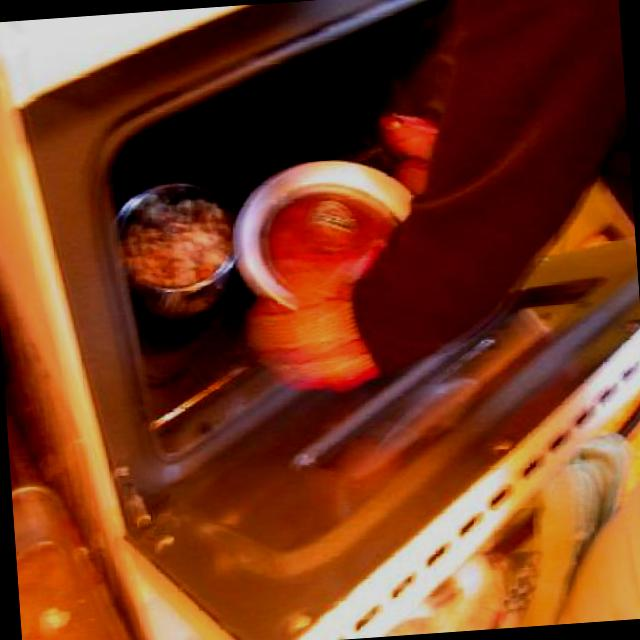Person: (220, 0, 640, 401)
